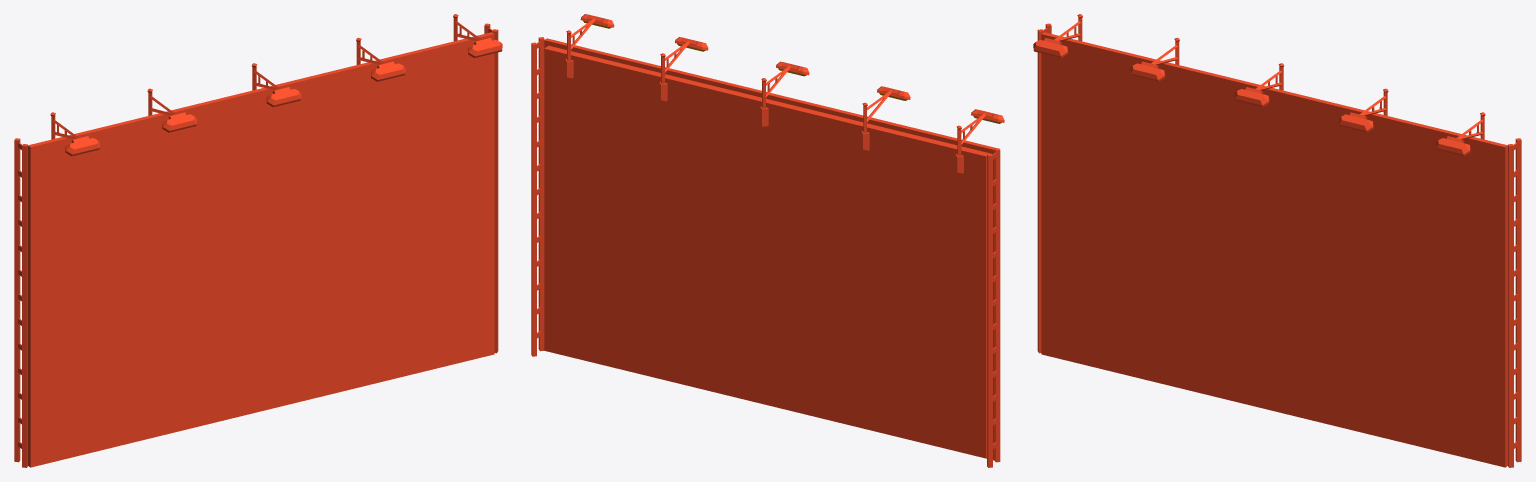
Rendered from SM_Billboard_Paradise_City.fbx.
The picture shows the model from 3 angles, left to right: view 1: azimuth 30°, elevation 25°; view 2: azimuth 150°, elevation 25°; view 3: azimuth 330°, elevation 25°; orthographic projection. The views are drawn at different scales.
Parts seen in each view (by area): view 1: SM_Billboard_Paradise_City; view 2: SM_Billboard_Paradise_City; view 3: SM_Billboard_Paradise_City.
Part boxes in pixels (x1=…): SM_Billboard_Paradise_City: x1=14, y1=14, x2=502, y2=467; SM_Billboard_Paradise_City: x1=531, y1=14, x2=1004, y2=467; SM_Billboard_Paradise_City: x1=1033, y1=14, x2=1521, y2=467.
Bounding box in the file's own units: 5.13 × 3.52 × 0.6856.
